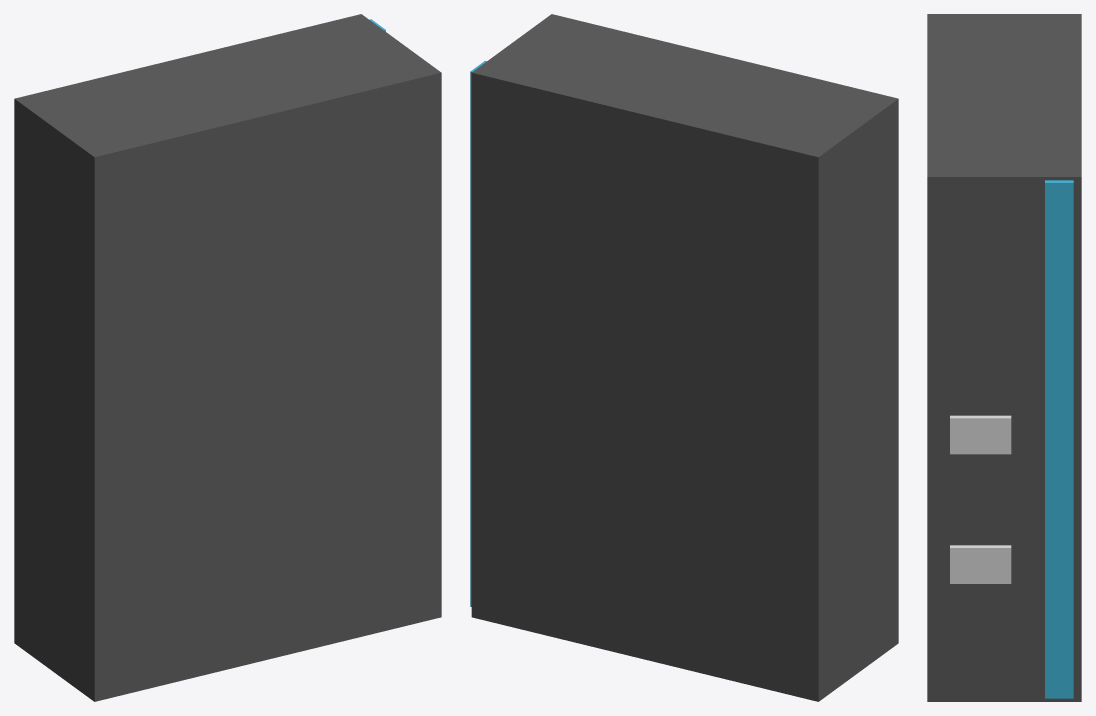
The model's file is AMAX-ex.glb.
3 renders of one model, left to right at view 1: azimuth 30°, elevation 25°; view 2: azimuth 150°, elevation 25°; view 3: azimuth 270°, elevation 25°, orthographic. The views are drawn at different scales.
Parts seen in each view (by area): view 1: Cube.001; view 2: Cube.001, Cube.010; view 3: Cube.001, Cube.010, Cube.012, Cube.011.
Part boxes in pixels (x1,y1,x2,y2): Cube.001: (14,14,441,701); Cube.001: (471,14,898,701); Cube.010: (470,60,486,606); Cube.001: (927,14,1081,701); Cube.010: (1045,180,1073,698); Cube.012: (950,415,1011,454); Cube.011: (950,545,1011,583).
Size of the model in its own units: 2.03 by 3 by 0.8.
